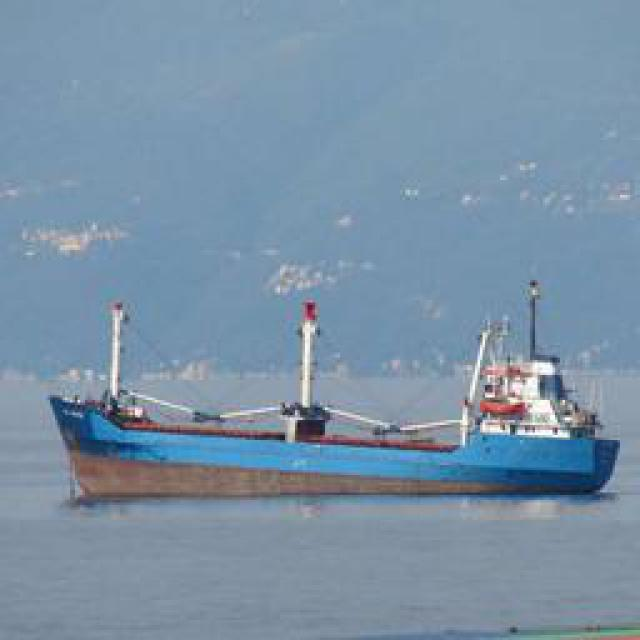Ship: (36, 281, 621, 504)
